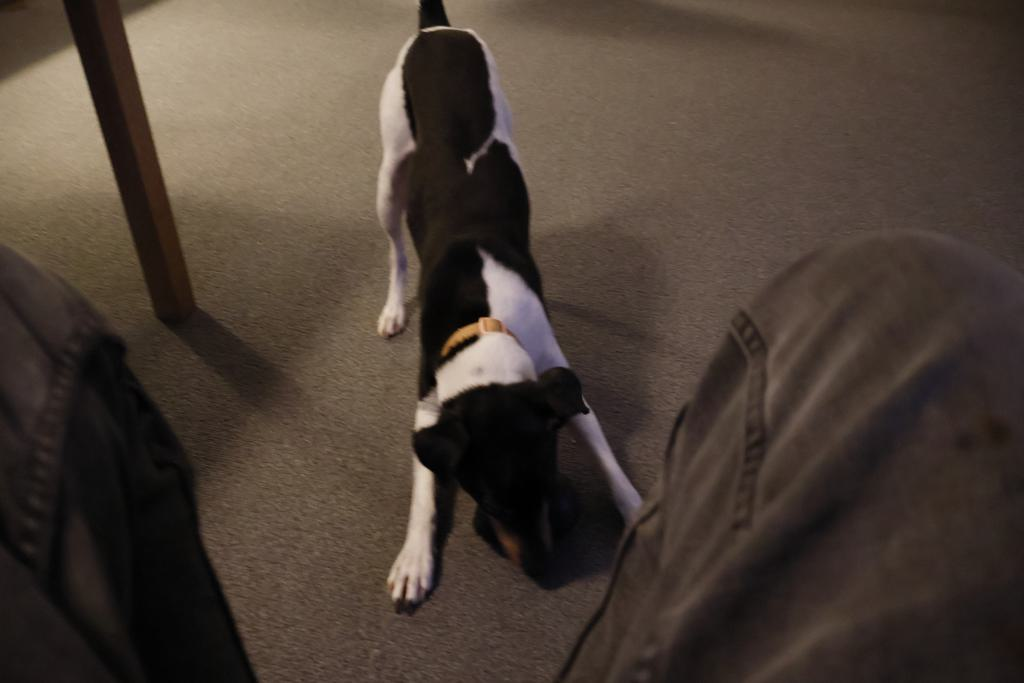Dog: (363, 0, 670, 623)
Humanoid: (0, 212, 1024, 681)
